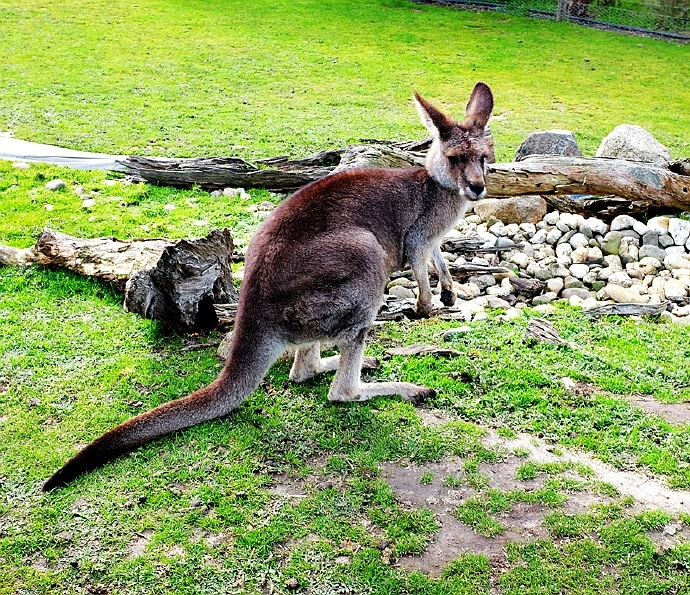kangaroo: (33, 83, 509, 500)
